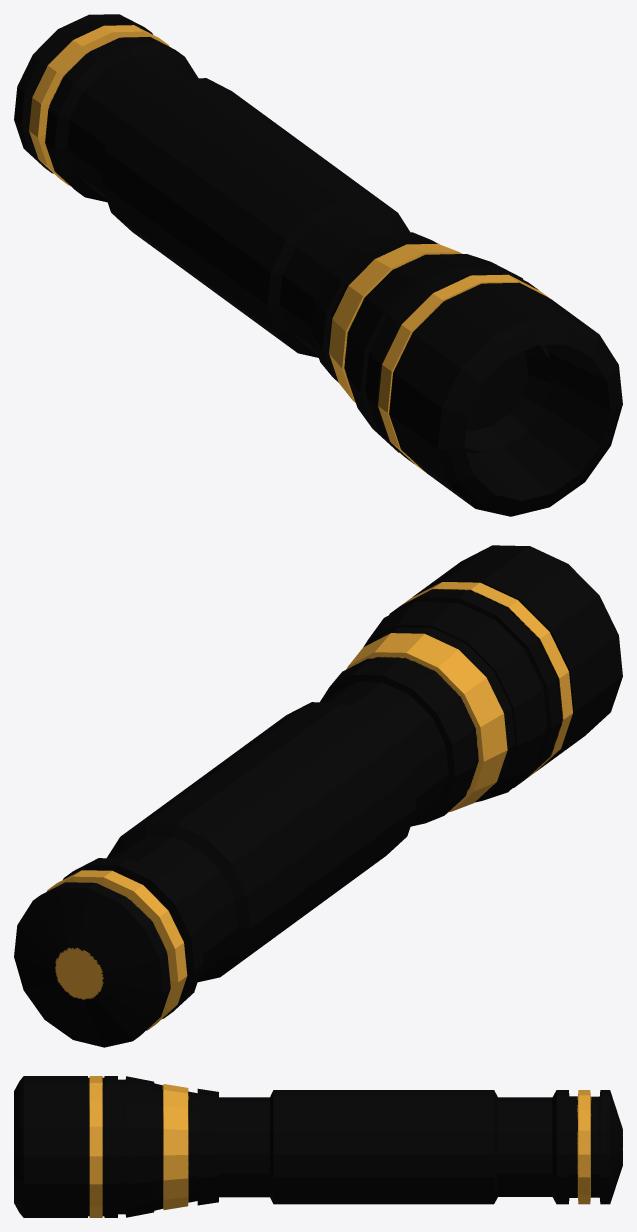
The model's file is MOD_Linterna.fbx.
3 views of the same model, one above another, from view 1: azimuth 30°, elevation 25°; view 2: azimuth 150°, elevation 25°; view 3: azimuth 270°, elevation 25° (orthographic). The views are drawn at different scales.
Visible parts, largest first — view 1: Cilindro; view 2: Cilindro; view 3: Cilindro.
Part boxes in pixels (bbox=[...]): Cilindro: bbox=[14, 14, 622, 516]; Cilindro: bbox=[14, 545, 622, 1047]; Cilindro: bbox=[14, 1076, 622, 1217].
Size of the model in its own units: 159 by 158 by 681.
